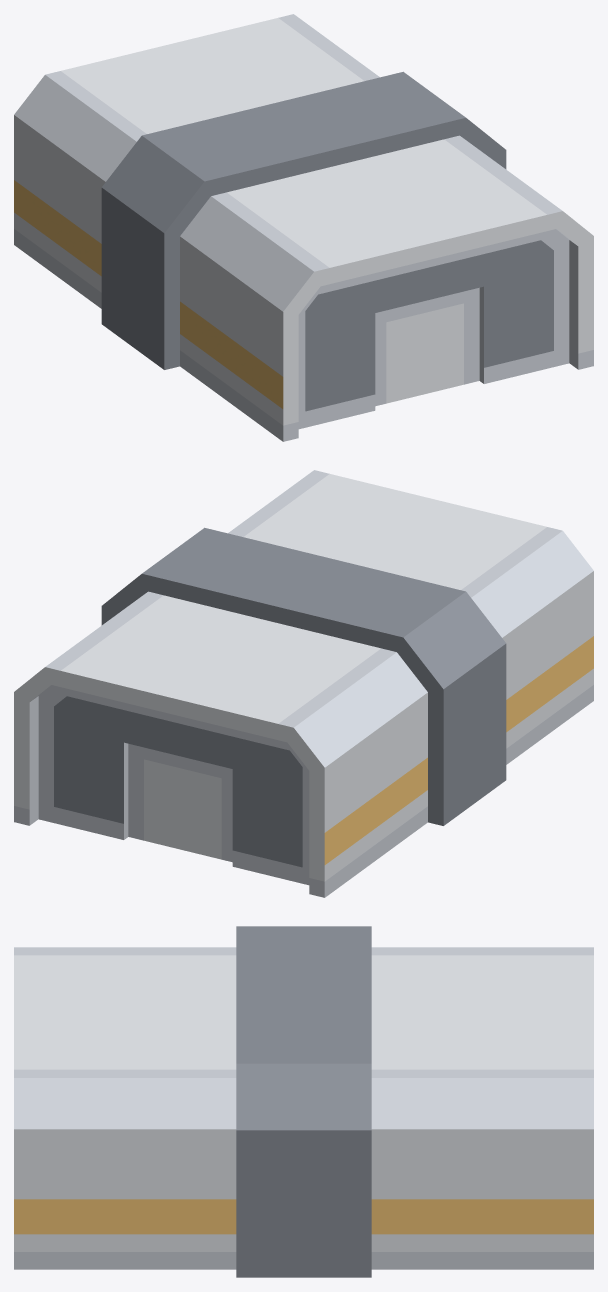
File: hangar_largeB.glb
3 views of the same model, one above another, from view 1: azimuth 30°, elevation 25°; view 2: azimuth 150°, elevation 25°; view 3: azimuth 270°, elevation 25° (orthographic). The views are drawn at different scales.
Visible parts, largest first — view 1: hangar_largeB, gate.003; view 2: hangar_largeB, gate.002; view 3: hangar_largeB.
Part boxes in pixels (box(x1,y1,x2,y2)): hangar_largeB: box(14, 14, 593, 441); gate.003: box(298, 229, 569, 429); hangar_largeB: box(14, 470, 593, 897); gate.002: box(38, 685, 309, 885); hangar_largeB: box(14, 926, 593, 1277).
Bounding box in the file's own units: 2.2 × 1.1 × 3.
